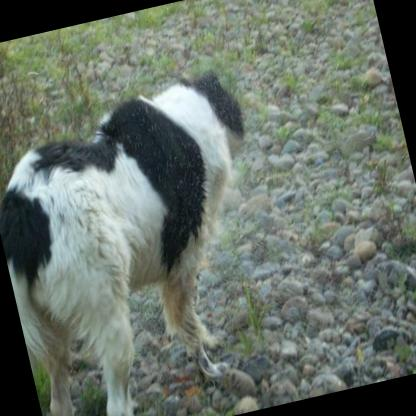Newfoundland: (0, 65, 308, 416)
